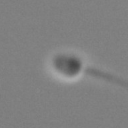normal: (86, 61, 128, 92)
